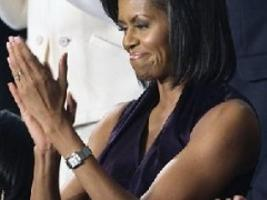person: (9, 1, 263, 200)
